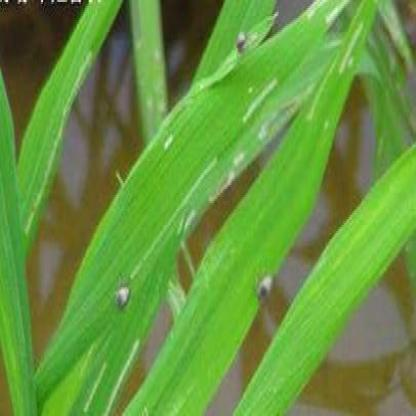rice-bug: (112, 278, 132, 309), (254, 272, 274, 303), (235, 29, 247, 51)
